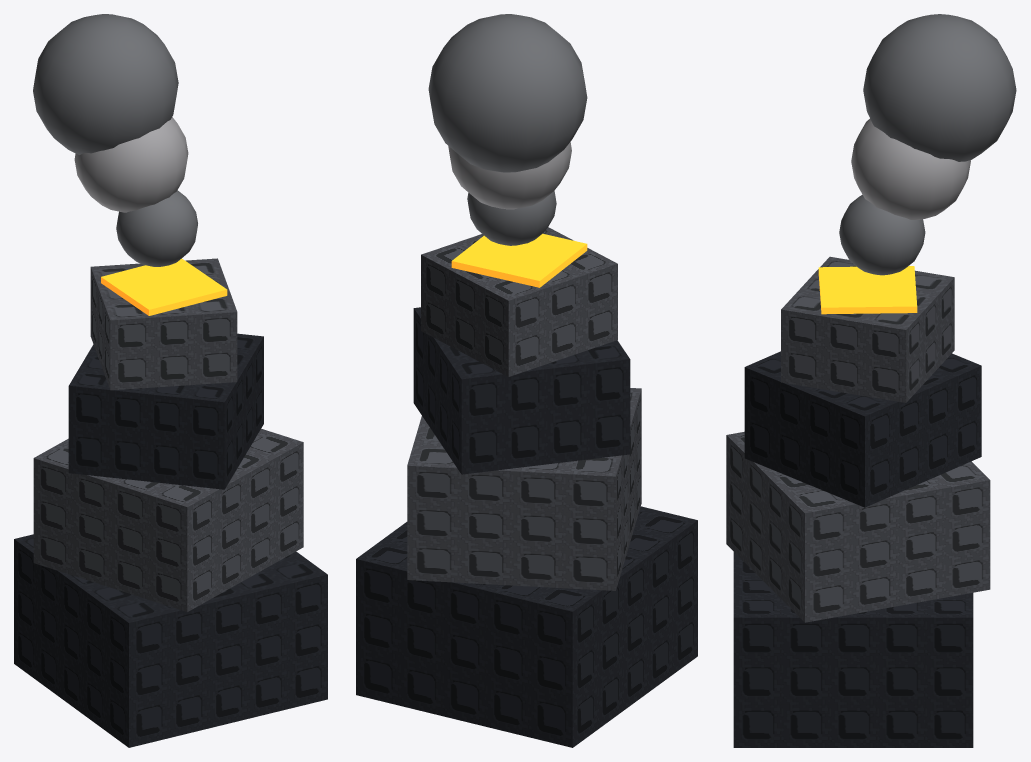
Rendered from BlackSmoker.glb.
The picture shows the model from 3 angles, left to right: view 1: azimuth 30°, elevation 25°; view 2: azimuth 150°, elevation 25°; view 3: azimuth 270°, elevation 25°; orthographic projection. The views are drawn at different scales.
Parts seen in each view (by area): view 1: BlackSmoker, BlackSmoker_Glow; view 2: BlackSmoker, BlackSmoker_Glow; view 3: BlackSmoker, BlackSmoker_Glow.
Part boxes in pixels (box(x1,y1,x2,y2)): BlackSmoker: box(14, 14, 327, 747); BlackSmoker_Glow: box(101, 258, 227, 315); BlackSmoker: box(356, 14, 697, 747); BlackSmoker_Glow: box(451, 233, 587, 287); BlackSmoker: box(726, 14, 1016, 747); BlackSmoker_Glow: box(818, 266, 917, 314).
Size of the model in its own units: 5.5 by 15.3 by 6.05.
2 materials, 1 textured.
